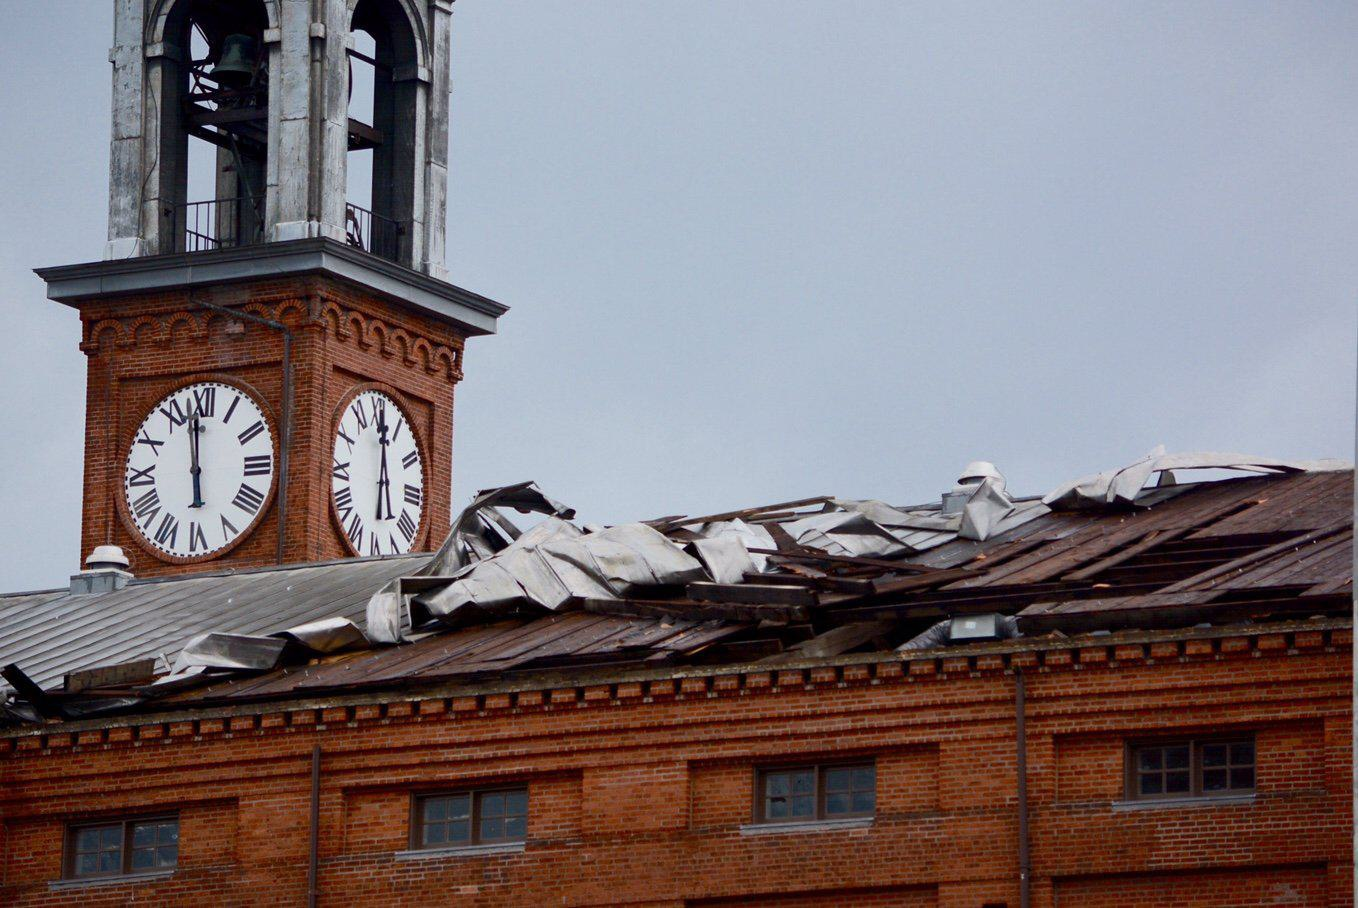sagging_roof: (419, 472, 1326, 671)
